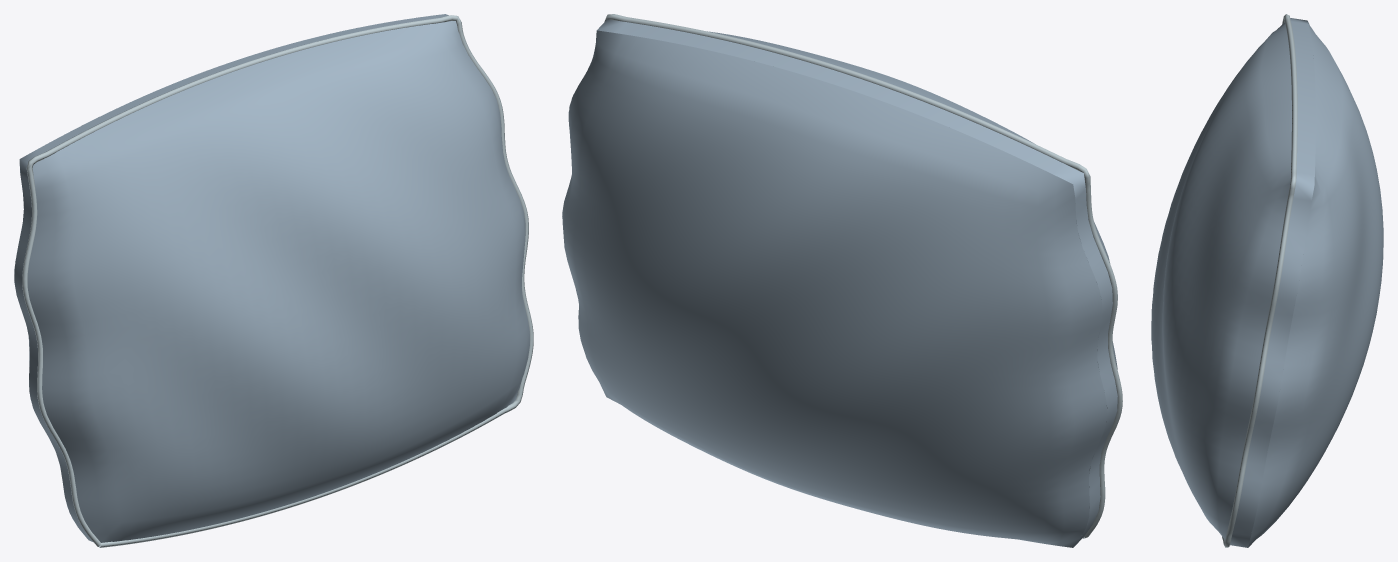
File: family-denim-pillow-v1.glb
The picture shows the model from 3 angles, left to right: view 1: azimuth 30°, elevation 25°; view 2: azimuth 150°, elevation 25°; view 3: azimuth 270°, elevation 25°; orthographic projection. The views are drawn at different scales.
Visible parts, largest first — view 1: Filled linen panel, Piped pillow seam, Sewn edge band; view 2: Filled linen panel (×2), Sewn edge band, Piped pillow seam; view 3: Filled linen panel (×2), Sewn edge band, Piped pillow seam.
Part boxes in pixels (x1=…): Filled linen panel: x1=27, y1=21, x2=529, y2=542; Piped pillow seam: x1=22, y1=15, x2=533, y2=547; Sewn edge band: x1=14, y1=14, x2=448, y2=542; Filled linen panel (×2): x1=562, y1=30, x2=1117, y2=547; Sewn edge band: x1=568, y1=19, x2=1117, y2=546; Piped pillow seam: x1=604, y1=14, x2=1122, y2=538; Filled linen panel (×2): x1=1151, y1=22, x2=1383, y2=547; Sewn edge band: x1=1230, y1=18, x2=1315, y2=547; Piped pillow seam: x1=1222, y1=14, x2=1297, y2=547.
Bounding box in the file's own units: 0.417 × 0.3372 × 0.1745.
